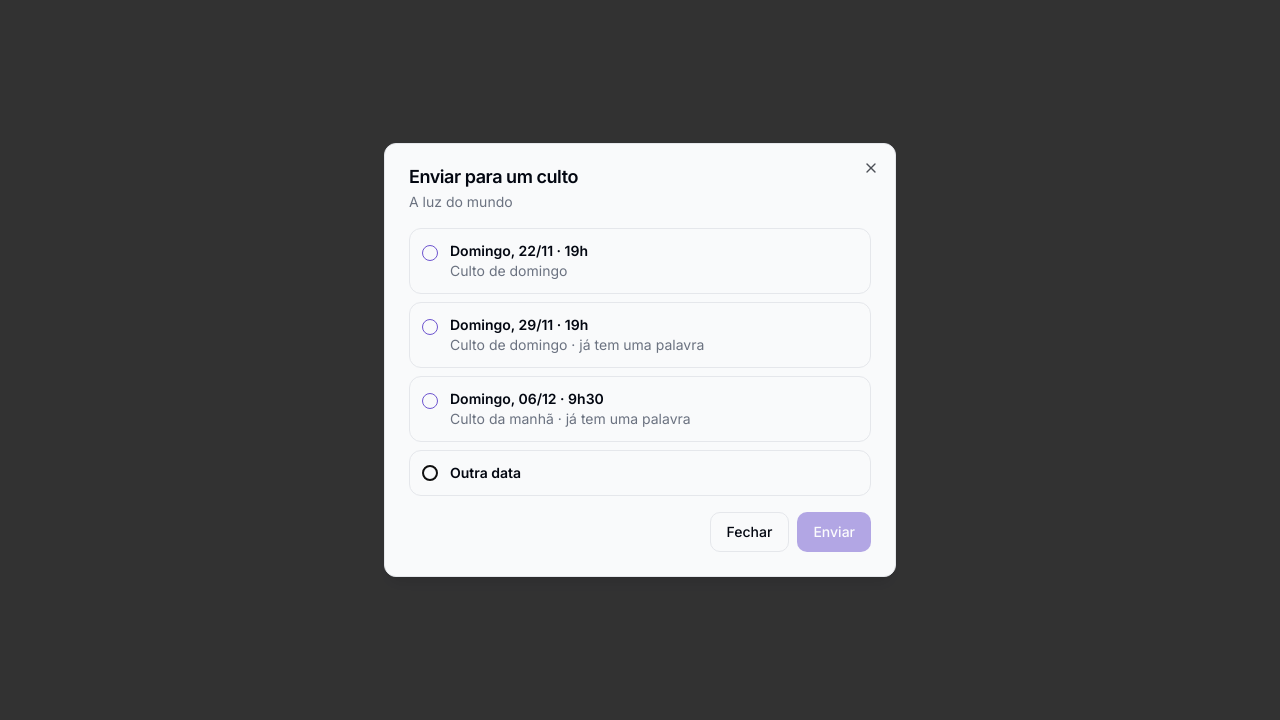
Scenario: SendToServiceDialog › 409 pede confirmação e Trocar reenvia com replace
Later steps or results of the test are not shown.
Click the radio button named "Domingo, 29/11" next to "Domingo, 29/11 · 19h": (430, 327) [422,319,438,335]
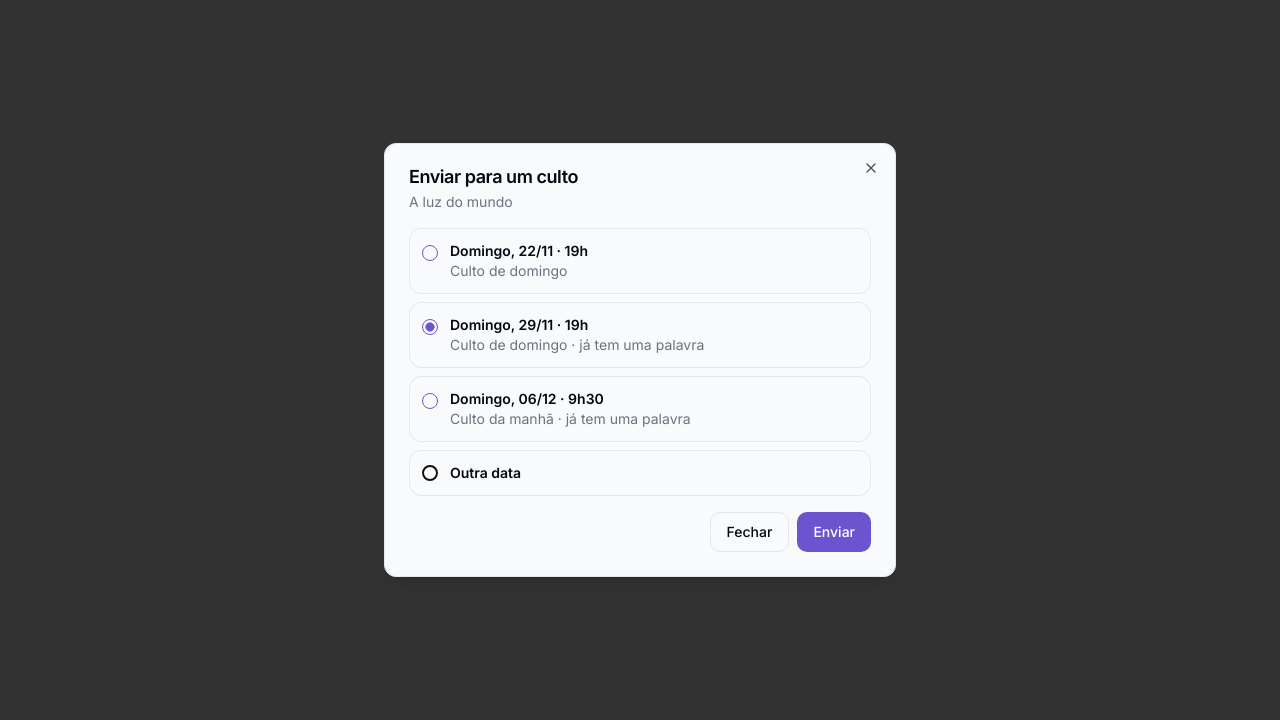
Click the button "Enviar": (834, 532) [797,512,871,552]
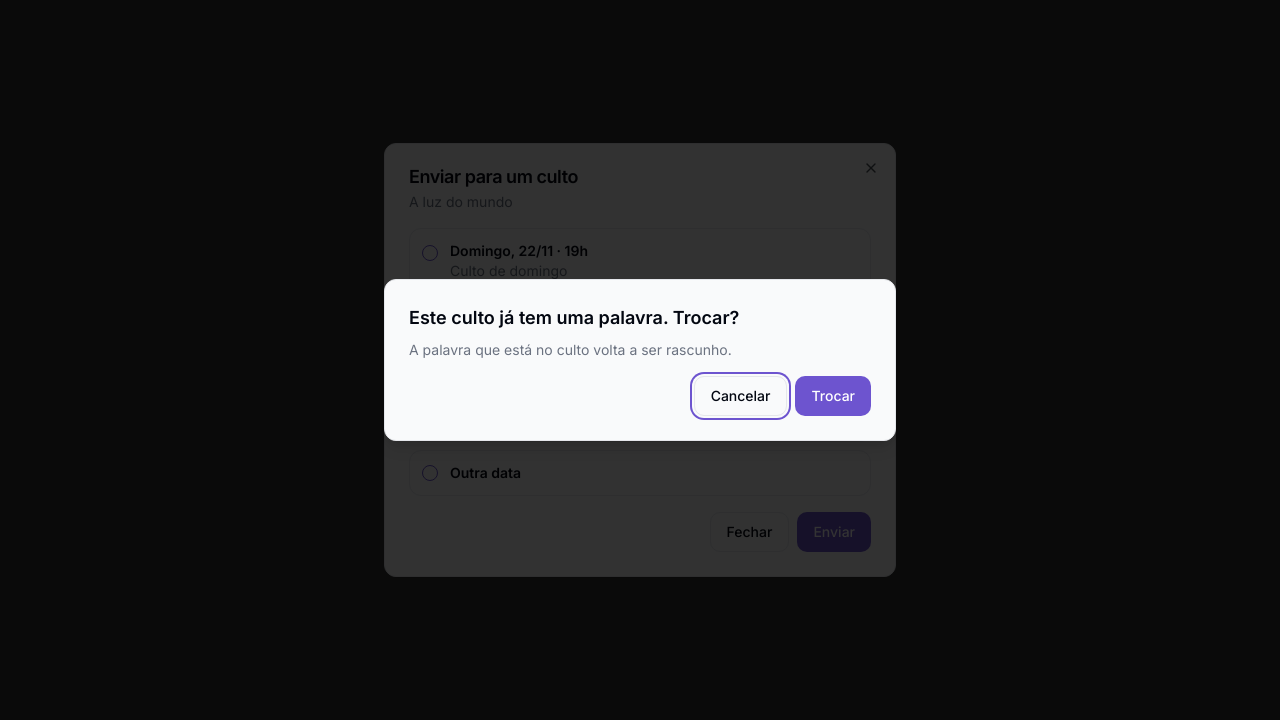
Check: the heading "Este culto já tem uma palavra. Trocar?" is shown, box [409,307,739,328]
